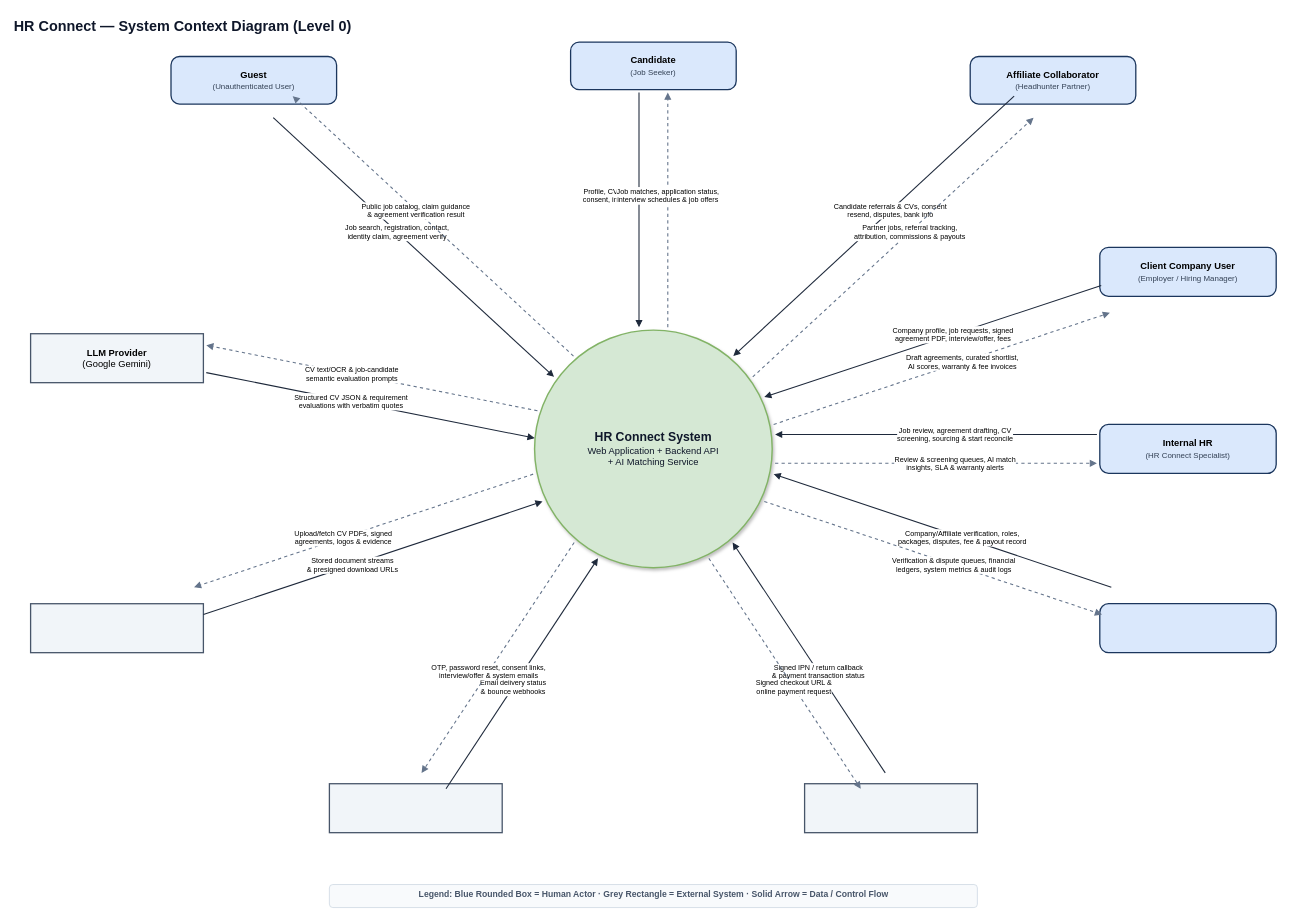
Image size: 1289x920. Some labels were removed from this diagram. Here are the shapes that lost their labels. From the top down, the centre of each, then its label:
At point 117,628: "Object Storage (Cloudflare R2)".
At point 1187,628: "Platform Admin (System Administrator)".
At point 415,808: "Email Service (SMTP / Resend)".
At point 891,808: "Payment Gateway (VNPay)".
